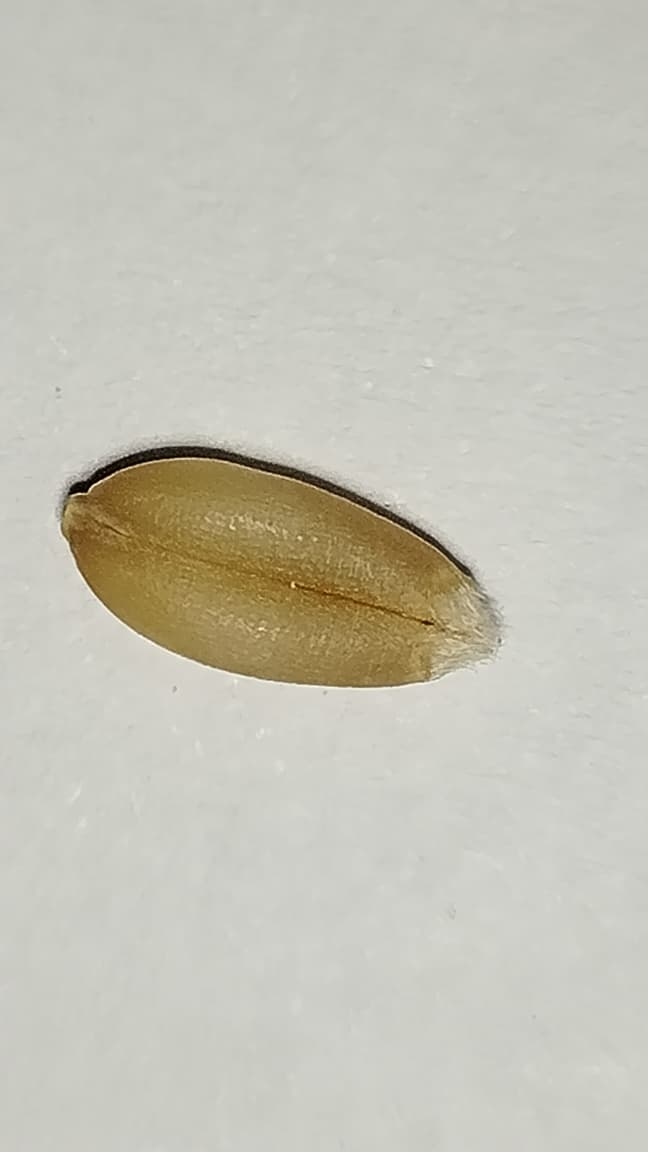healthy: (63, 453, 497, 685)
